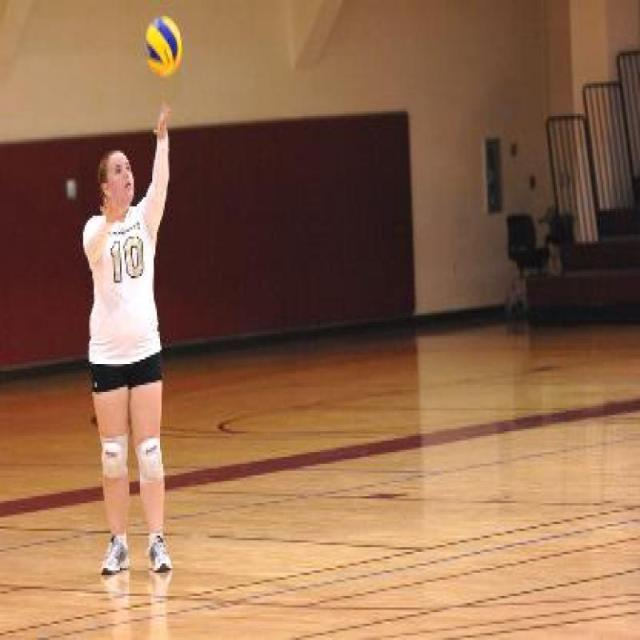volleyball: (145, 9, 183, 74)
